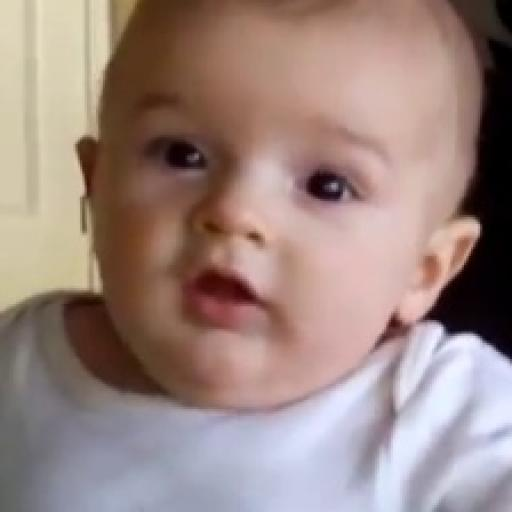Autism: (108, 5, 504, 438)
